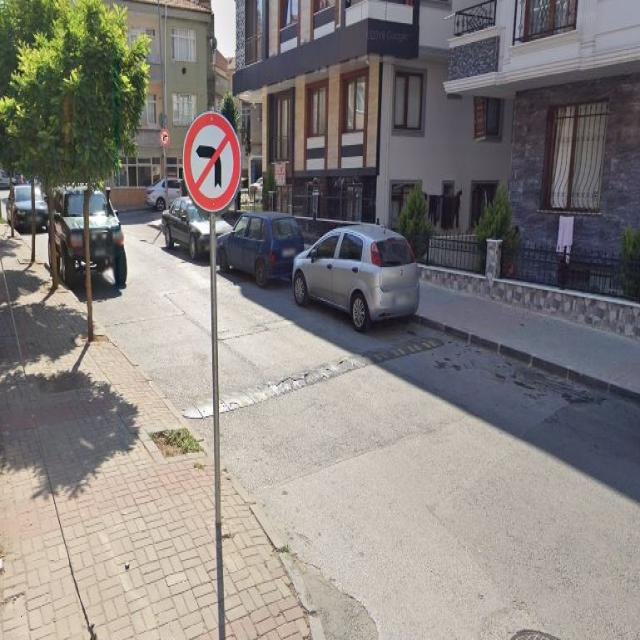sagadonulmez: (160, 129, 170, 146)
soladonulmez: (183, 111, 241, 213)
